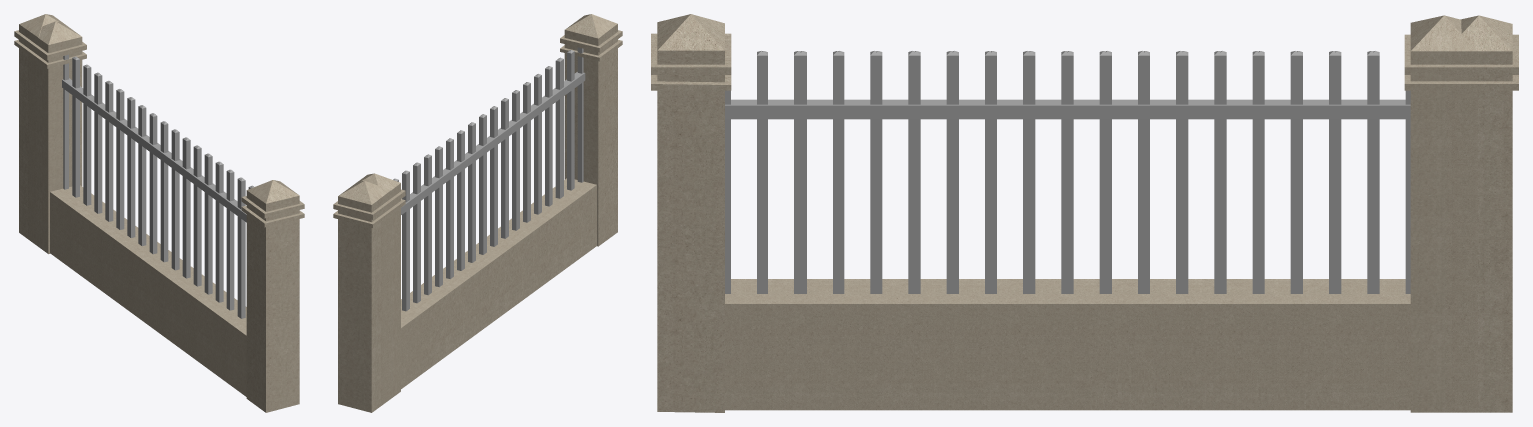
Rendered from weilan.fbx.
The picture shows the model from 3 angles, left to right: view 1: azimuth 30°, elevation 25°; view 2: azimuth 150°, elevation 25°; view 3: azimuth 270°, elevation 25°; orthographic projection. The views are drawn at different scales.
Parts seen in each view (by area): view 1: polySurface188, polySurface187; view 2: polySurface188, polySurface187; view 3: polySurface187, polySurface188.
Boxes of the visible parts, left/top/right/bottom form: polySurface188: left=14, top=14, right=304, bottom=412; polySurface187: left=24, top=21, right=253, bottom=396; polySurface188: left=333, top=14, right=622, bottom=412; polySurface187: left=356, top=47, right=596, bottom=405; polySurface187: left=725, top=15, right=1484, bottom=412; polySurface188: left=651, top=14, right=1518, bottom=412.
Bounding box in the file's own units: 0.2514 × 1.34 × 2.74.
Materials: 2 (1 with a texture image).
